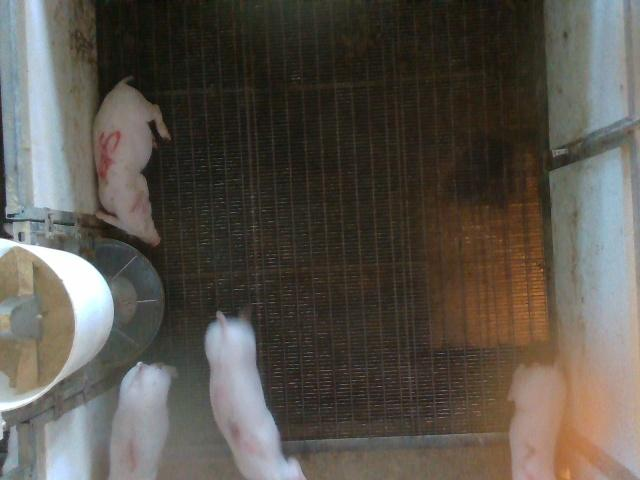pig-1: (108, 362, 171, 478)
pig-2: (509, 365, 565, 478)
pig-3: (205, 311, 305, 479)
pig-5: (92, 76, 170, 247)
